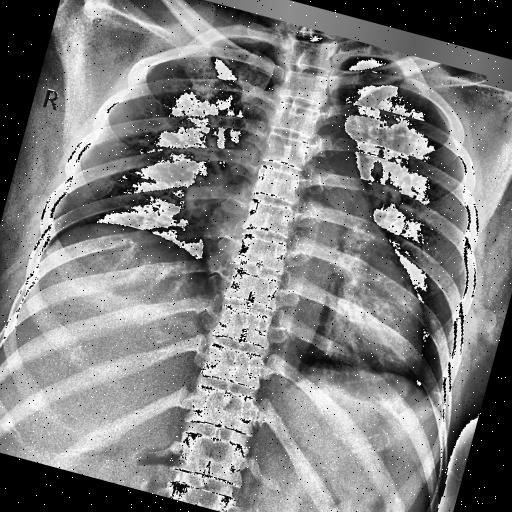0- Aortic enlargement: (284, 116, 370, 188)
11- Pleural thickening: (330, 47, 374, 83), (230, 31, 264, 49)
3- Cardiomegaly: (176, 208, 448, 390), (180, 200, 446, 379), (178, 208, 450, 381)
